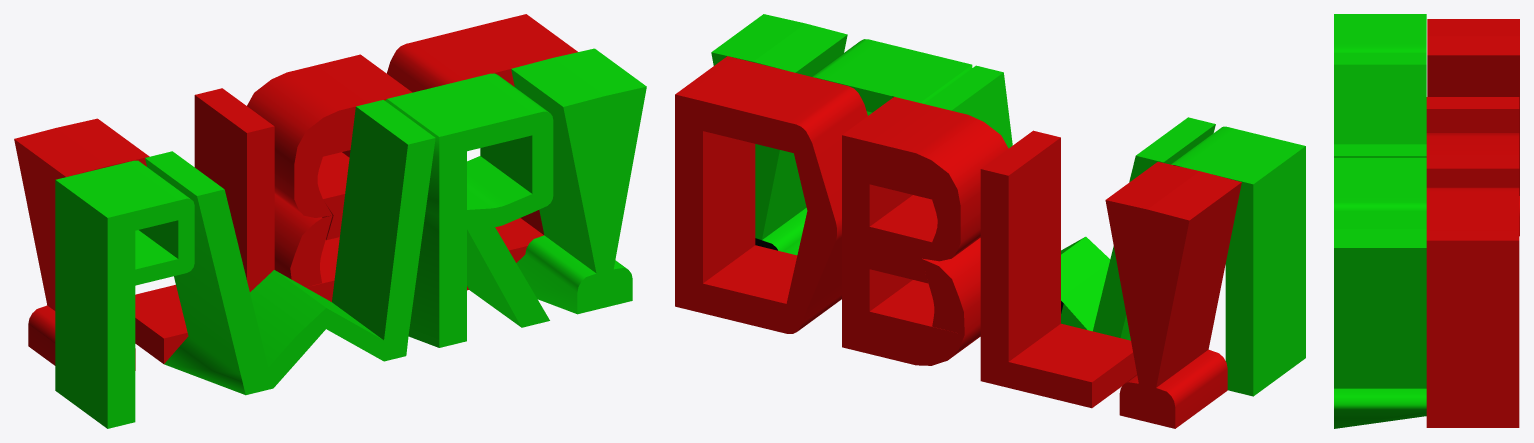
File: DBL_DMG.fbx
3 views of the same model, side by side, from view 1: azimuth 30°, elevation 25°; view 2: azimuth 150°, elevation 25°; view 3: azimuth 270°, elevation 25° (orthographic). The views are drawn at different scales.
Parts seen in each view (by area): view 1: DBL_PWR; view 2: DBL_PWR; view 3: DBL_PWR.
Boxes of the visible parts, x1=… form: DBL_PWR: x1=14, y1=14, x2=646, y2=428; DBL_PWR: x1=675, y1=14, x2=1305, y2=428; DBL_PWR: x1=1334, y1=14, x2=1519, y2=428.
Size of the model in its own units: 93.6 by 35.11 by 31.46.
